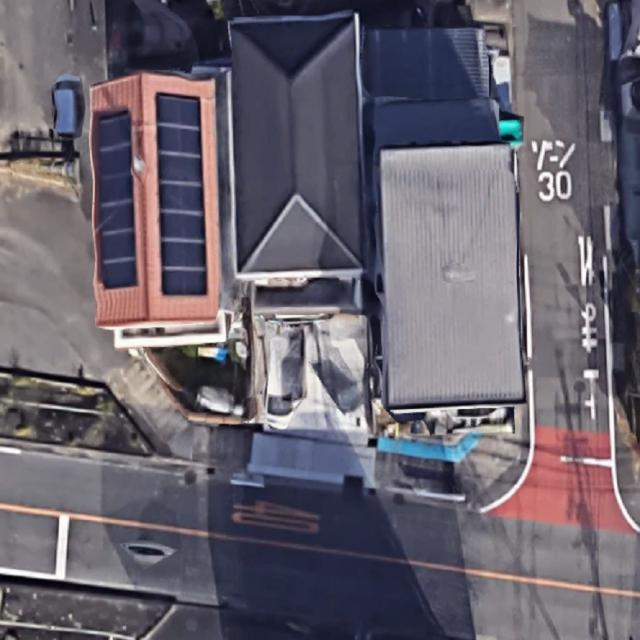Batiment: (230, 11, 361, 277), (91, 74, 219, 326)
